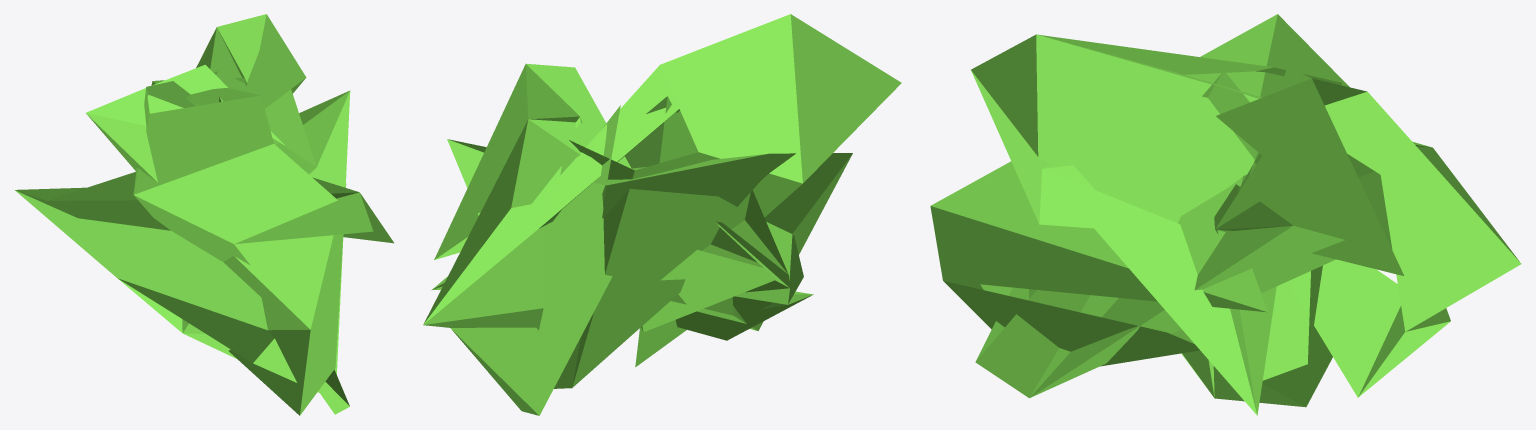
The model's file is arbusto.fbx.
3 renders of one model, left to right at view 1: azimuth 30°, elevation 25°; view 2: azimuth 150°, elevation 25°; view 3: azimuth 270°, elevation 25°, orthographic. The views are drawn at different scales.
Visible parts, largest first — view 1: Plane; view 2: Plane; view 3: Plane.
Boxes of the visible parts, x1,y1,x2,y2 form: Plane: [15, 14, 393, 415]; Plane: [423, 14, 901, 415]; Plane: [930, 14, 1521, 415].
Size of the model in its own units: 331 by 274 by 420.
